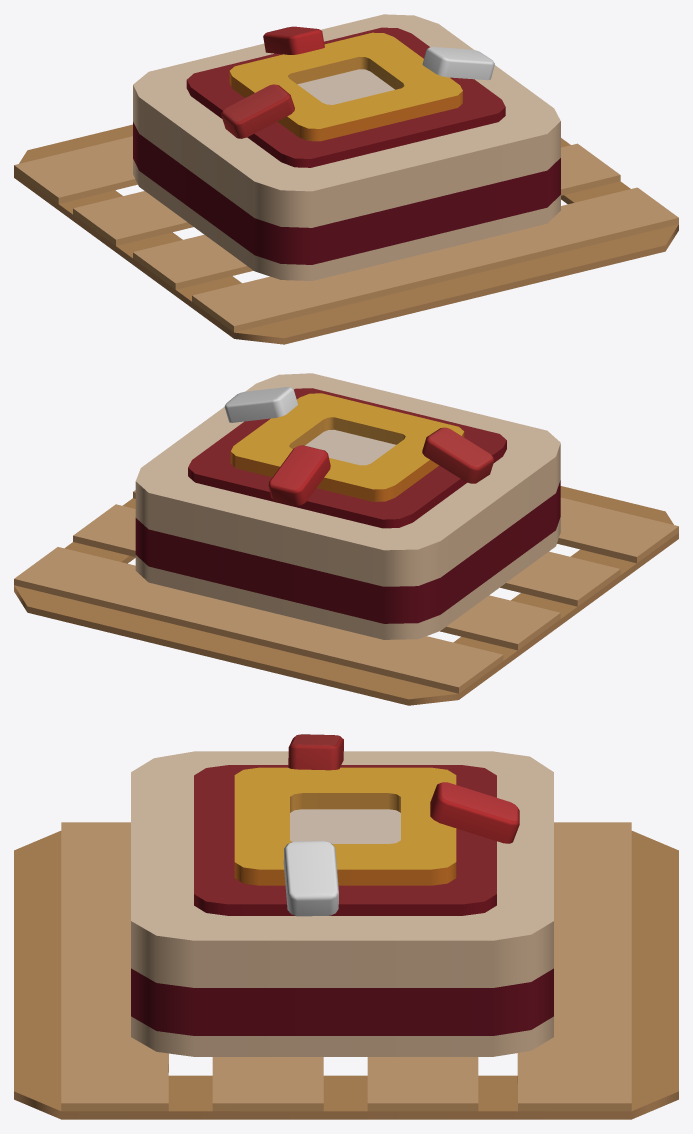
The model's file is BC_cookrecipe_S_03.fbx.
3 renders of one model, top to bottom at view 1: azimuth 30°, elevation 25°; view 2: azimuth 150°, elevation 25°; view 3: azimuth 270°, elevation 25°, orthographic. The views are drawn at different scales.
Parts seen in each view (by area): view 1: cube1, base, cube3, cube2, cube4; view 2: cube1, base, cube4, cube3, cube2; view 3: cube1, base, cube2, cube4, cube3.
Boxes of the visible parts, x1,y1,x2,y2 form: cube1: (133,14,560,280); base: (14,124,678,344); cube3: (221,84,294,138); cube2: (422,47,494,80); cube4: (263,26,324,54); cube1: (135,373,560,639); base: (14,486,678,705); cube4: (268,445,330,505); cube3: (422,427,494,483); cube2: (224,387,297,422); cube1: (131,751,553,1056); base: (14,822,678,1119); cube2: (283,841,338,916); cube4: (430,782,519,843); cube3: (288,734,343,770).
Bounding box in the file's own units: 3.5 × 1.09 × 3.5.
